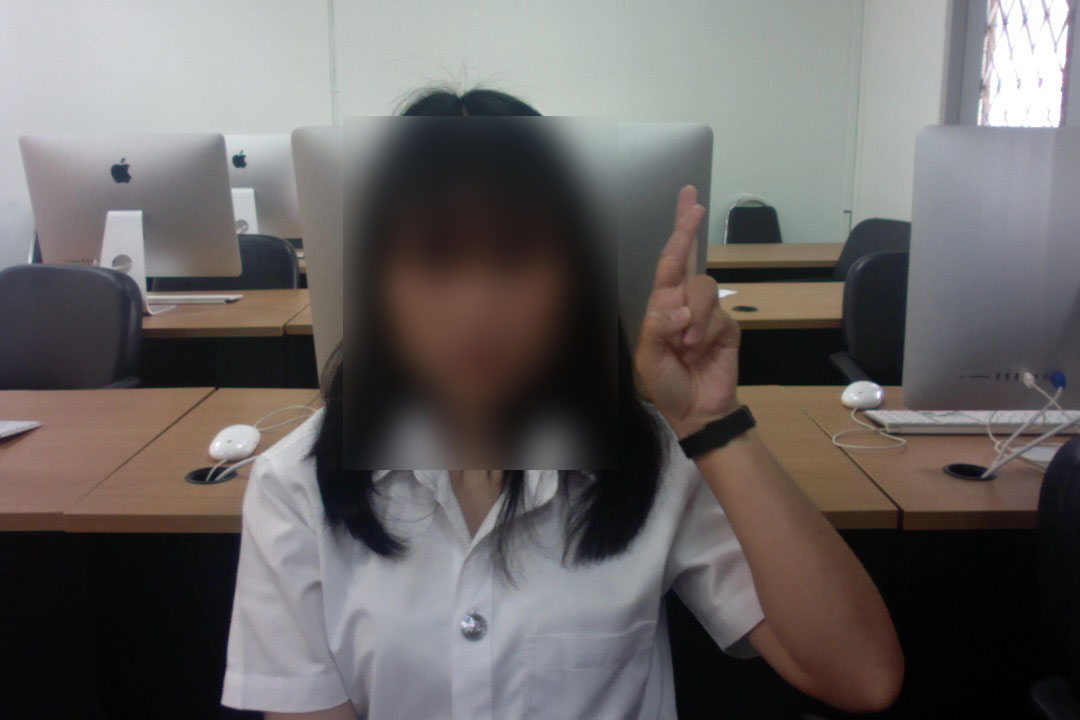rao: (625, 183, 754, 419)
